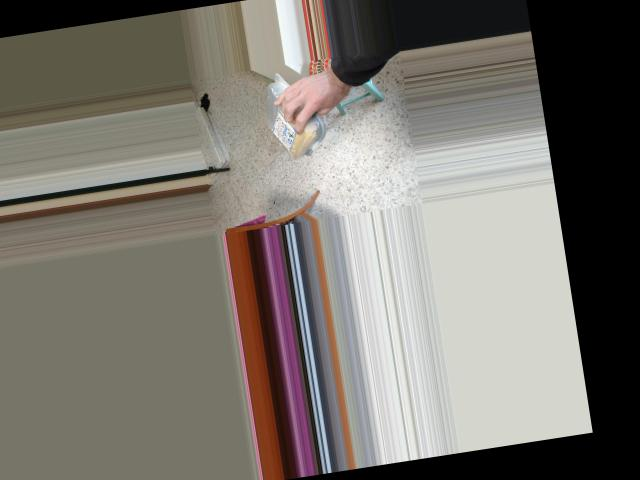cheese: (264, 75, 318, 169)
